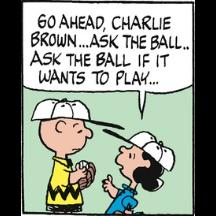charlie: (30, 96, 97, 216)
